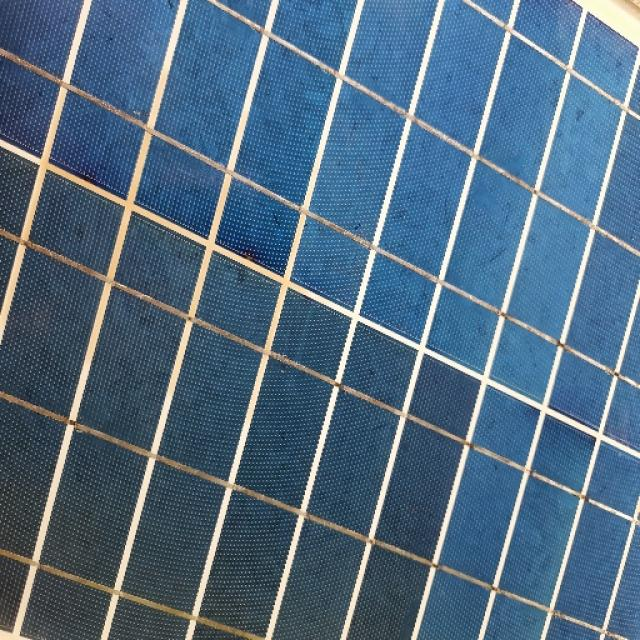Clean: (0, 57, 636, 640)
